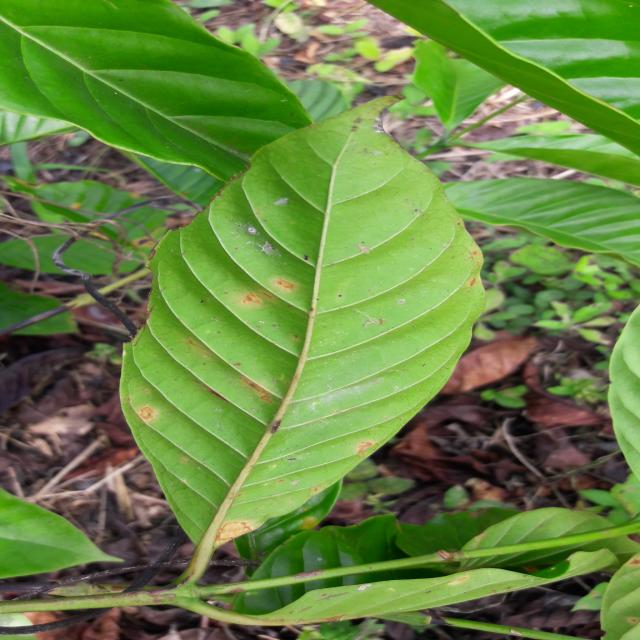Enfermedad-Roya: (119, 108, 491, 550)
